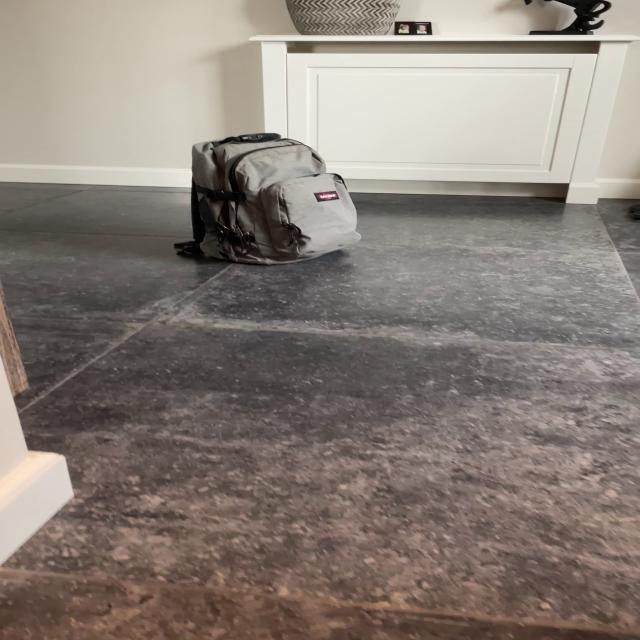backpack: (176, 127, 369, 271)
